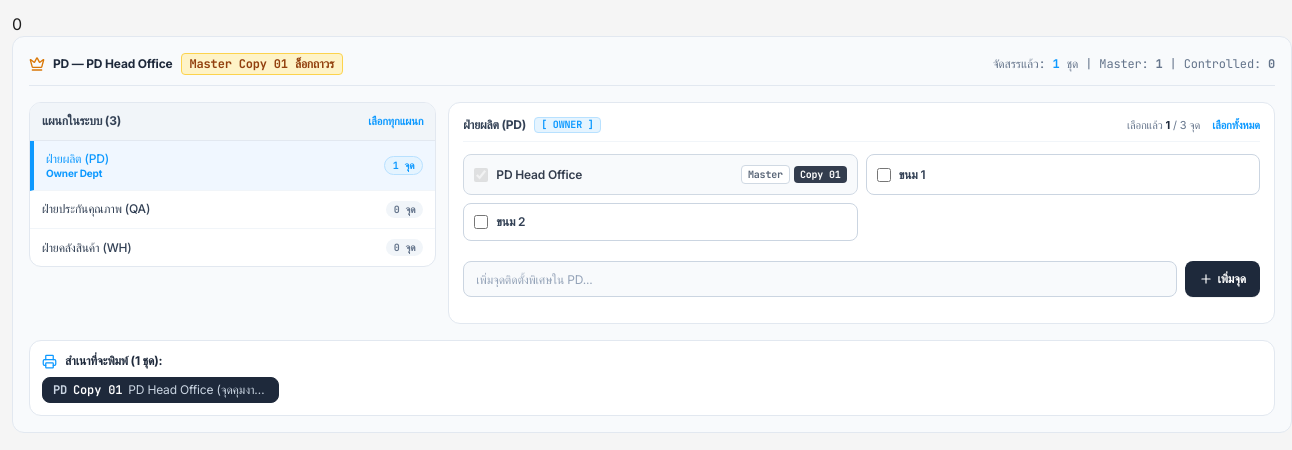
Distribution Station Checkbox Click, ID Normalization & Real-time Allocation Sync Tests › Test Case 4: Multi-Department Selection: Switch to QA tab, select "QA Head Office" receives Copy 02 and updates QA counter
Note: Switch to QA Tab
Click the button "ฝ่ายประกันคุณภาพ (QA) 0 จุด" at coordinates (96, 209), box [30,191,435,229]
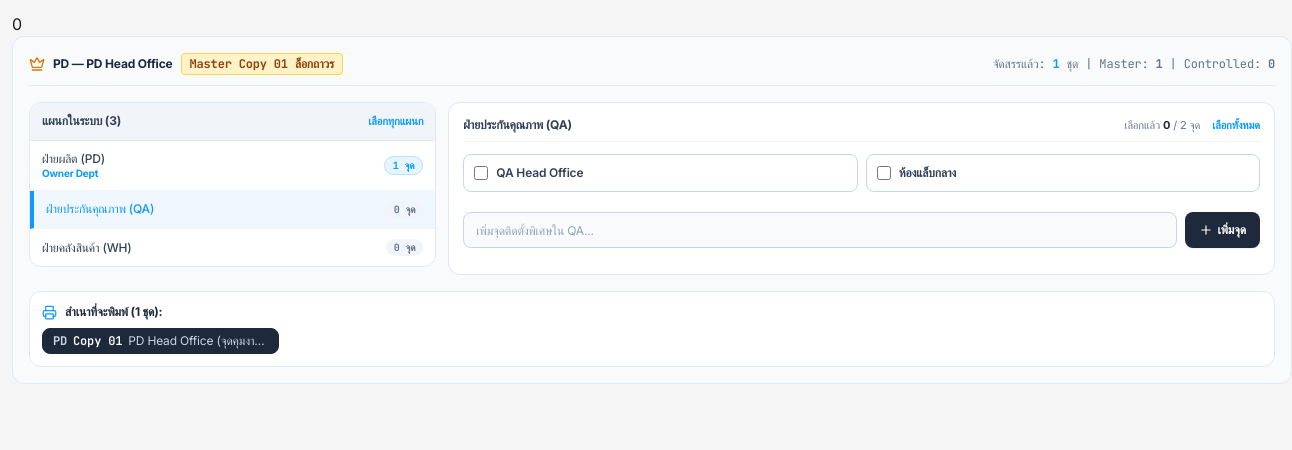
Check: the button "QA Head Office" is shown
Click the button "QA Head Office" at coordinates (540, 172), box [463,154,858,192]
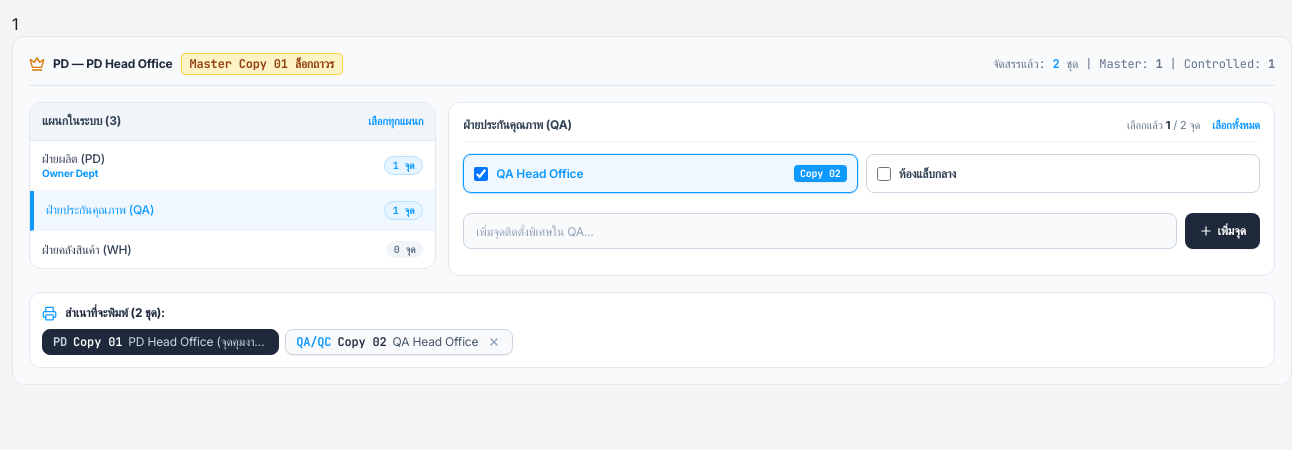
Check: the button "ฝ่ายประกันคุณภาพ (QA) 1 จุด" is shown, box [30,191,435,231]
Click the button "ฝ่ายผลิต (PD) Owner Dept 1 จุด" at coordinates (73, 158), box [30,140,435,191]
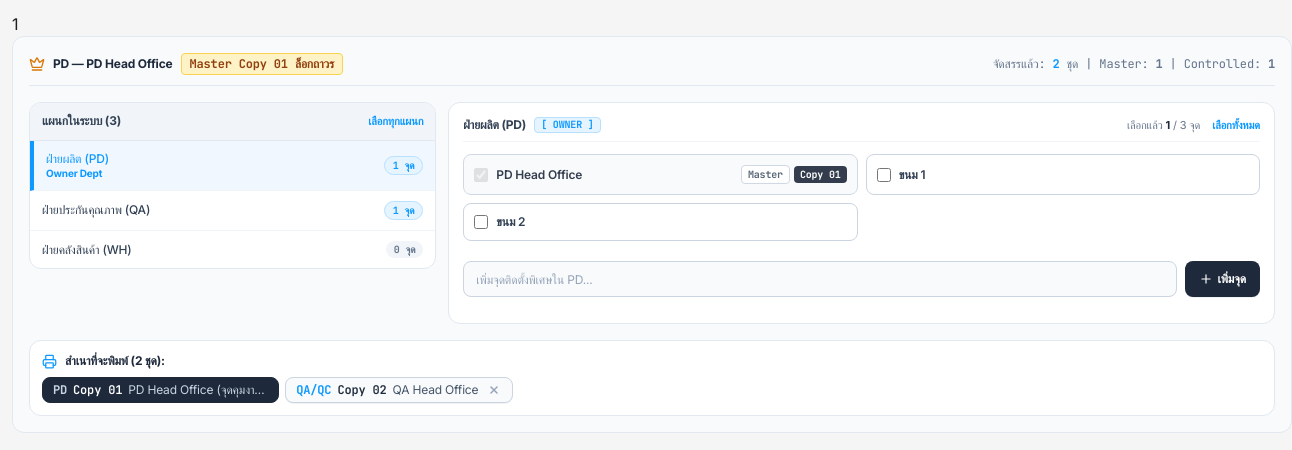
Click the button "ขนม 1" at coordinates (884, 175), box [866,154,1260,195]
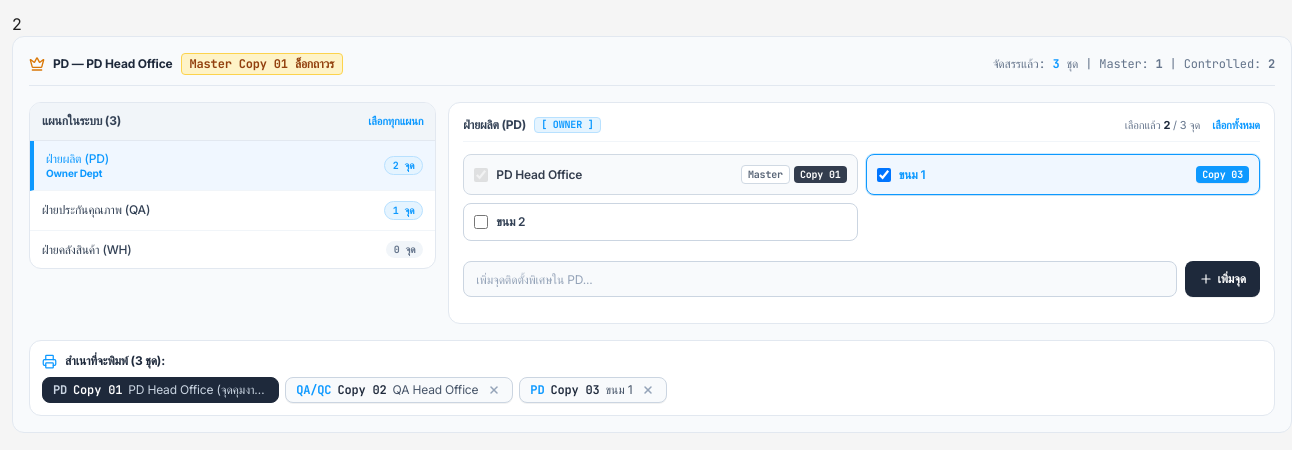
Check: the text "สำเนาที่จะพิมพ์ (3 ชุด):" is shown, box [65,353,165,369]
